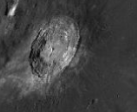crater: (5, 9, 103, 87)
